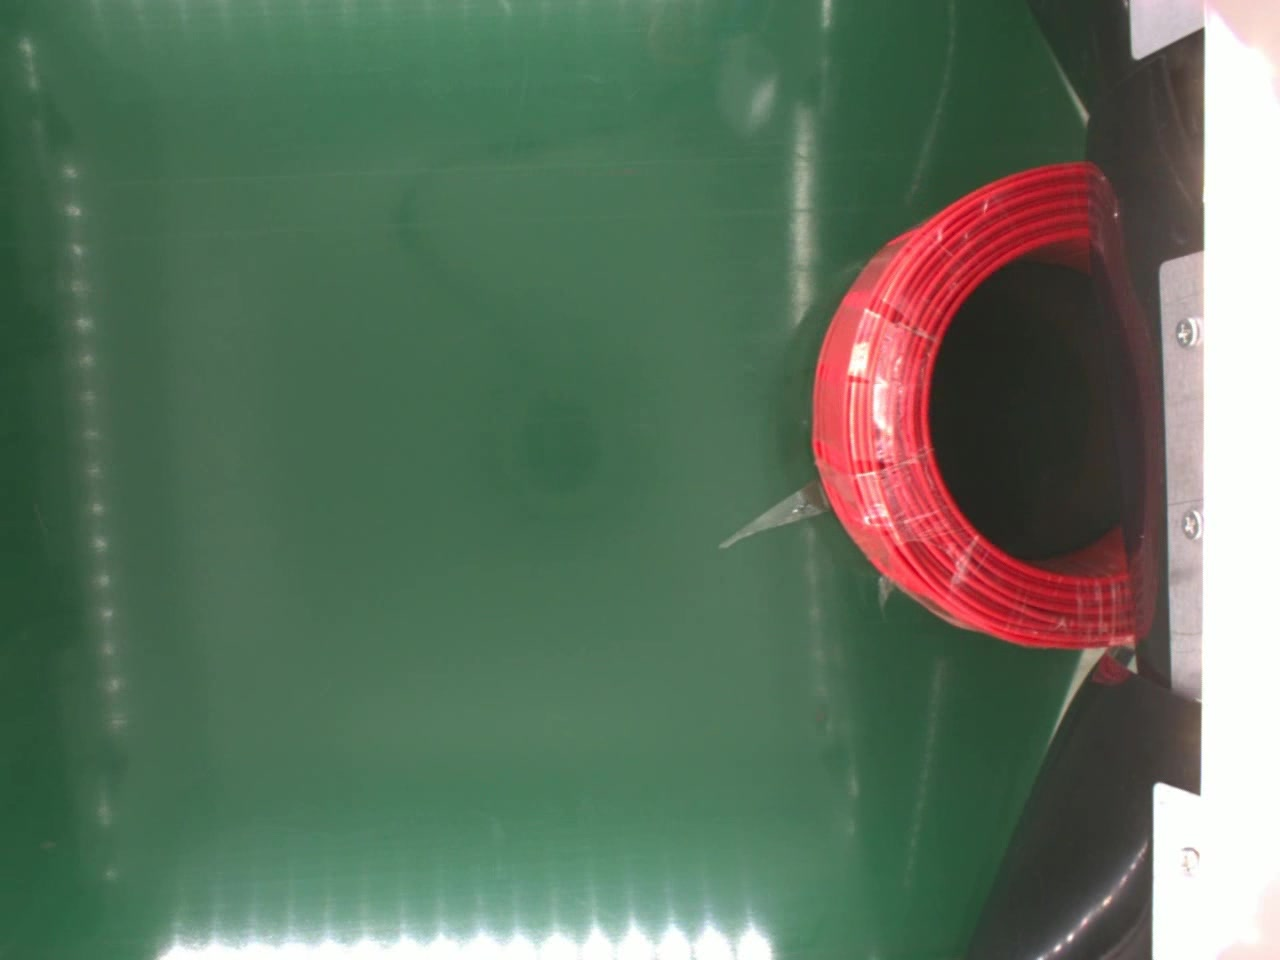red: (806, 159, 1137, 654)
